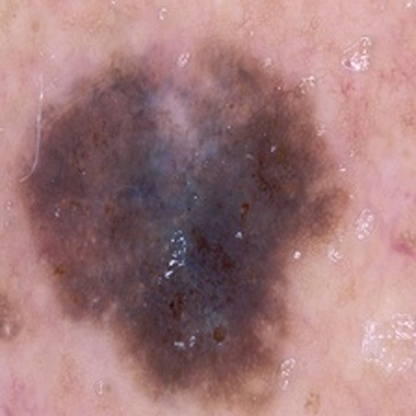malignant: (49, 92, 324, 373)
